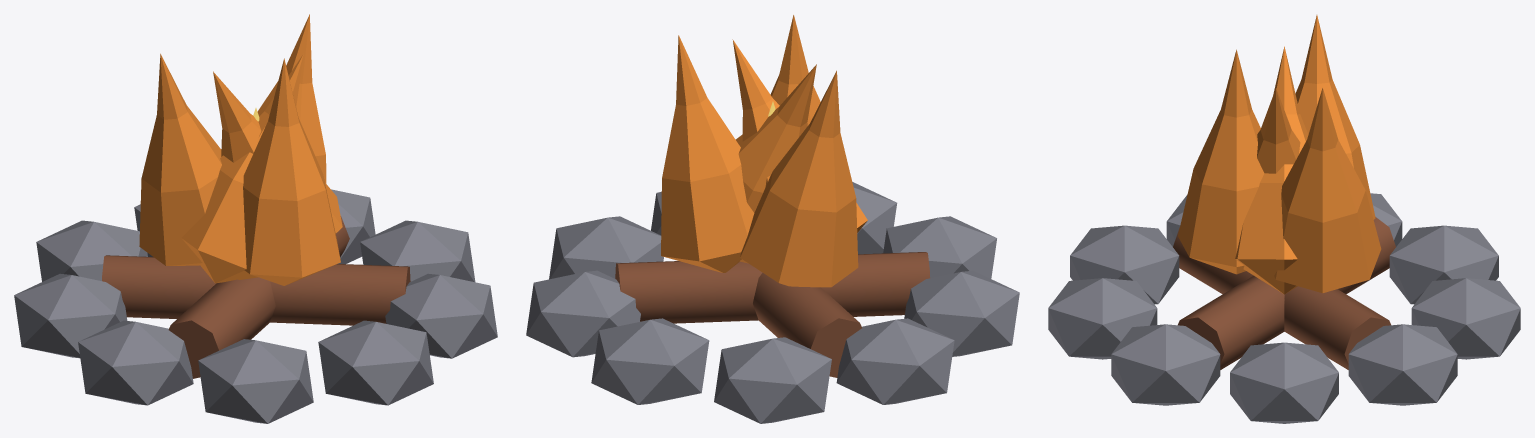
File: campfire.fbx
3 renders of one model, left to right at view 1: azimuth 30°, elevation 25°; view 2: azimuth 150°, elevation 25°; view 3: azimuth 270°, elevation 25°, orthographic. The views are drawn at different scales.
Parts seen in each view (by area): view 1: campfire; view 2: campfire; view 3: campfire.
Boxes of the visible parts, x1,y1,x2,y2 form: campfire: [14, 14, 497, 423]; campfire: [526, 15, 1019, 423]; campfire: [1048, 15, 1520, 423].
Bounding box in the file's own units: 1.18 × 0.822 × 1.18.
